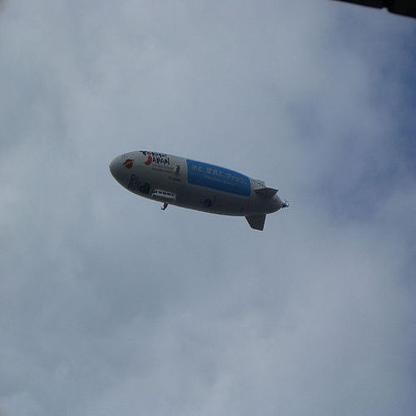Airship: (105, 151, 292, 238)
